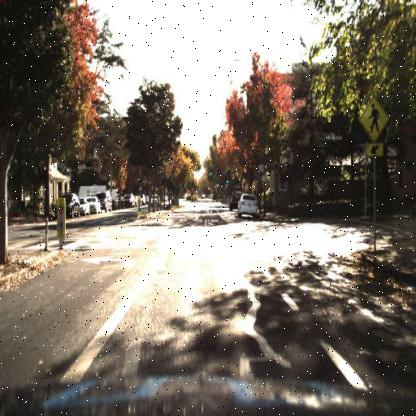car: (238, 191, 259, 215), (62, 191, 79, 218), (75, 194, 90, 216), (100, 186, 112, 212), (87, 196, 101, 214), (122, 192, 136, 209), (228, 190, 238, 211), (80, 198, 89, 216)
trafficLight: (208, 168, 216, 184)
trafficLight-Green: (225, 168, 231, 186), (215, 173, 221, 189)
trafficLight-Yellow: (225, 176, 232, 188), (215, 180, 220, 188)
